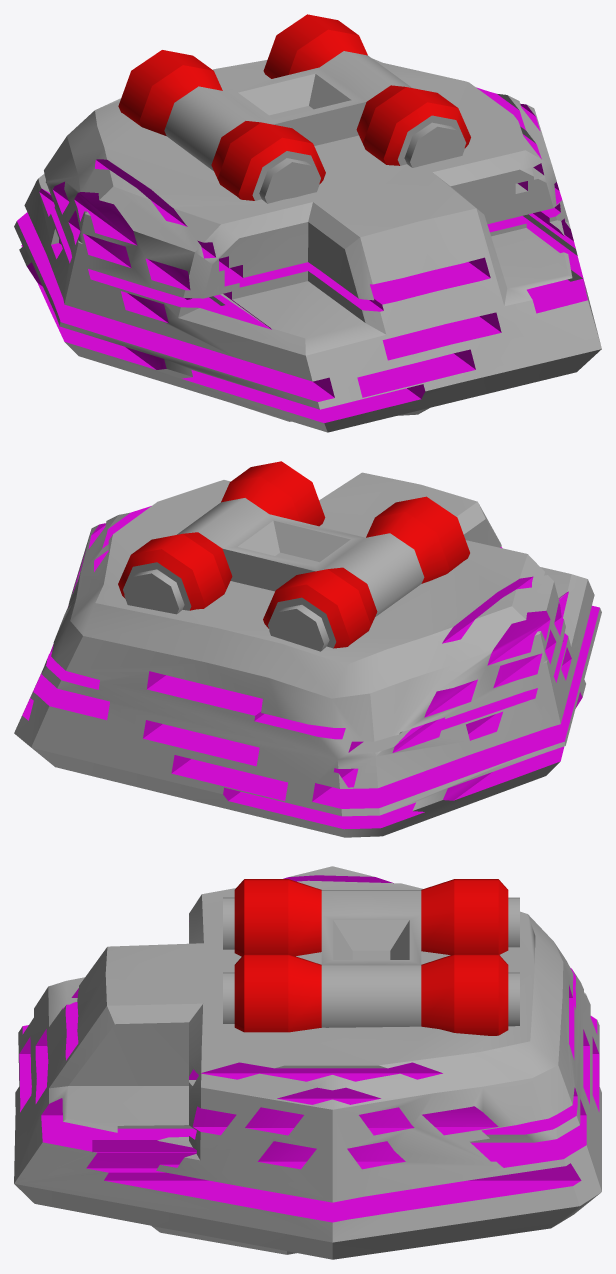
File: Enemy_TurretBody_Glitch.fbx
3 renders of one model, top to bottom at view 1: azimuth 30°, elevation 25°; view 2: azimuth 150°, elevation 25°; view 3: azimuth 270°, elevation 25°, orthographic. The views are drawn at different scales.
Visible parts, largest first — view 1: Enemy_Turret_Double_Body5; view 2: Enemy_Turret_Double_Body5; view 3: Enemy_Turret_Double_Body5.
Boxes of the visible parts, bbox=[...] form: Enemy_Turret_Double_Body5: bbox=[14, 14, 601, 432]; Enemy_Turret_Double_Body5: bbox=[14, 461, 601, 837]; Enemy_Turret_Double_Body5: bbox=[14, 866, 601, 1259].
Size of the model in its own units: 4.95 by 2.31 by 4.71.
